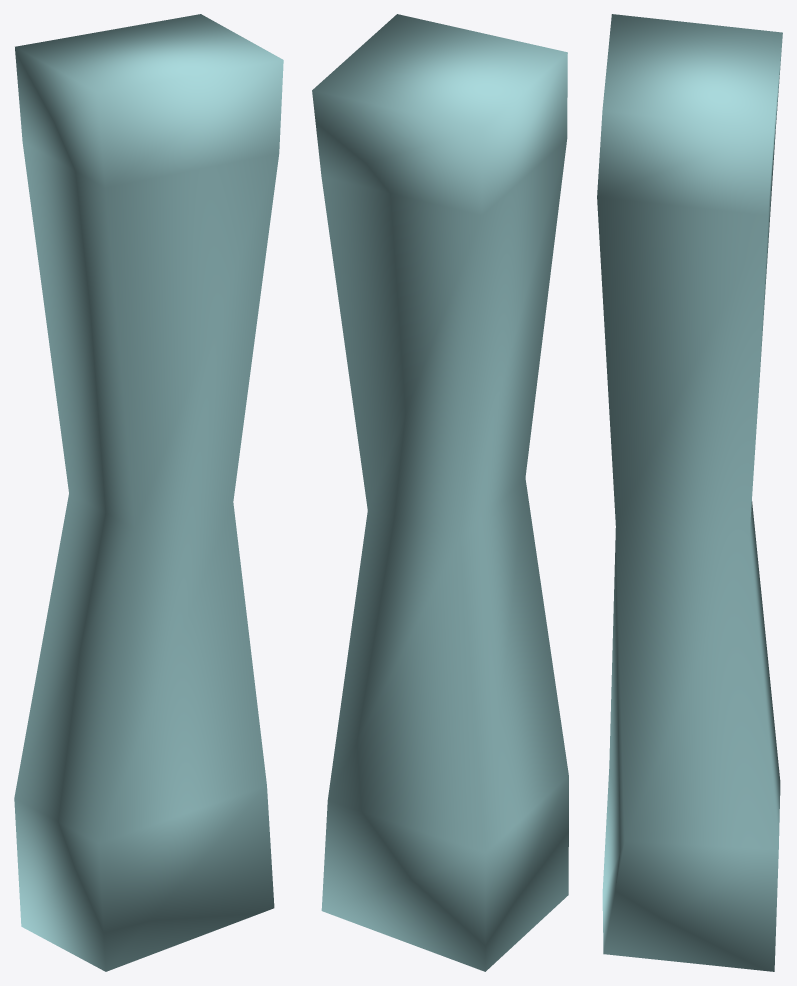
File: Skelly_palm.04.L.fbx
3 renders of one model, left to right at view 1: azimuth 30°, elevation 25°; view 2: azimuth 150°, elevation 25°; view 3: azimuth 270°, elevation 25°, orthographic. The views are drawn at different scales.
Visible parts, largest first — view 1: Skelly_palm.04.L; view 2: Skelly_palm.04.L; view 3: Skelly_palm.04.L.
Part boxes in pixels (x1,y1,x2,y2): Skelly_palm.04.L: (14,14,283,971); Skelly_palm.04.L: (312,14,568,971); Skelly_palm.04.L: (597,14,782,971).
Size of the model in its own units: 1.57 by 7.3 by 1.37.
